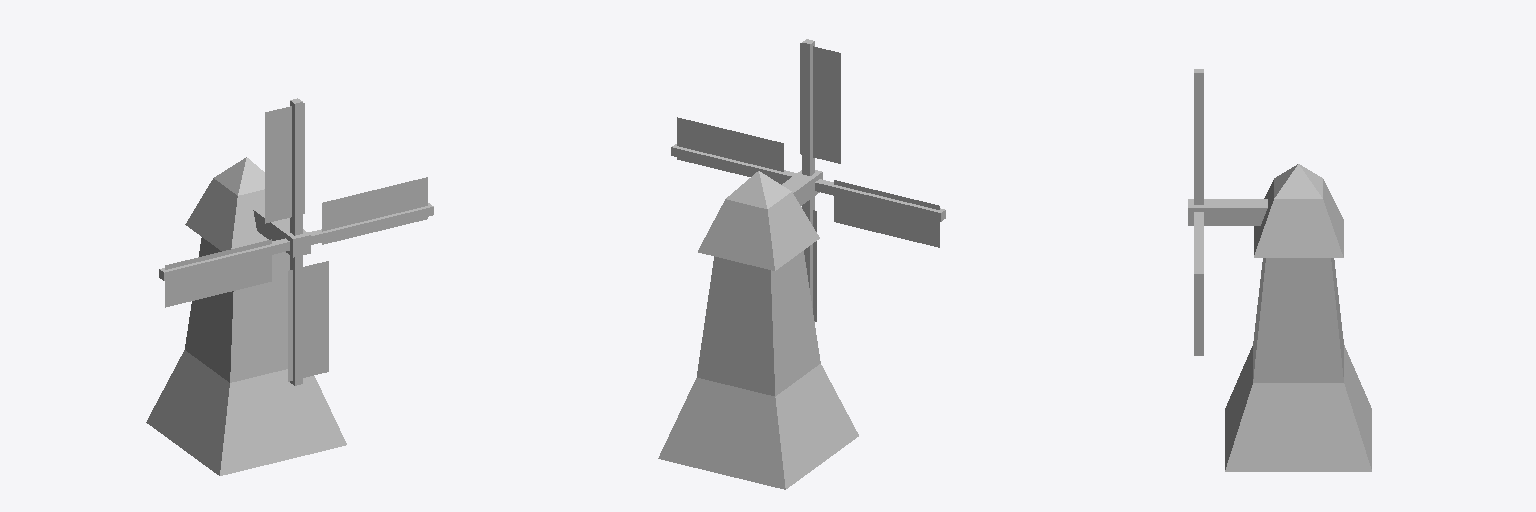
File: windmill.obj
3 renders of one model, left to right at view 1: azimuth 30°, elevation 25°; view 2: azimuth 150°, elevation 25°; view 3: azimuth 270°, elevation 25°, orthographic.
Parts seen in each view (by area): view 1: Windmill_Cube, Windblade_Cube.001; view 2: Windmill_Cube, Windblade_Cube.001; view 3: Windmill_Cube, Windblade_Cube.001.
Part boxes in pixels (left/top/right/bottom): Windmill_Cube: left=146, top=157, right=346, bottom=475; Windblade_Cube.001: left=159, top=98, right=433, bottom=385; Windmill_Cube: left=658, top=171, right=858, bottom=489; Windblade_Cube.001: left=671, top=39, right=945, bottom=321; Windmill_Cube: left=1225, top=164, right=1371, bottom=471; Windblade_Cube.001: left=1188, top=69, right=1267, bottom=355.
Bounding box in the file's own units: 9.76 × 12.77 × 5.79.